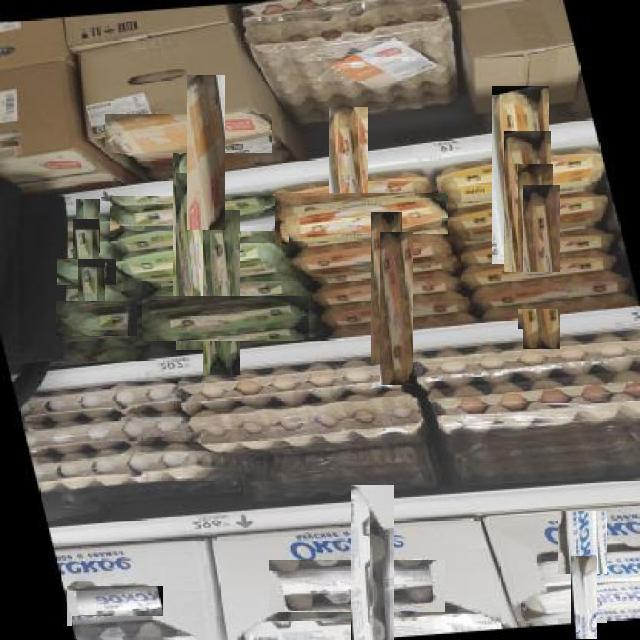Egg: (492, 85, 549, 264), (268, 559, 445, 612), (274, 193, 448, 245), (175, 173, 224, 350), (504, 130, 551, 303), (142, 295, 309, 341), (289, 234, 456, 278), (104, 113, 272, 153), (329, 106, 368, 277), (351, 485, 394, 640), (174, 151, 212, 317), (466, 272, 634, 309), (523, 184, 560, 349), (110, 195, 275, 231), (204, 210, 240, 375), (517, 164, 553, 329), (187, 75, 224, 230), (559, 511, 607, 623), (522, 574, 639, 618), (380, 232, 413, 385), (370, 212, 402, 364), (66, 585, 163, 626), (73, 617, 221, 639), (56, 301, 137, 339), (57, 336, 143, 367), (570, 556, 597, 640), (78, 260, 105, 327), (56, 258, 116, 285), (72, 219, 99, 276), (77, 198, 100, 253)
